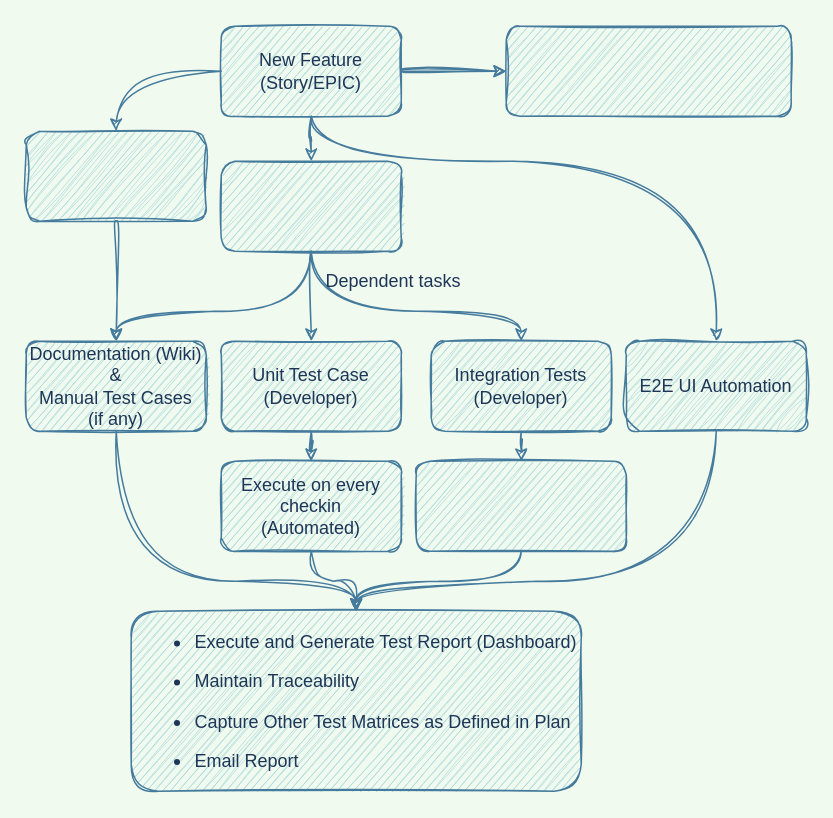
The diagram is 833 pixels wide and 818 high, and some of its shapes have lost their labels. Each missing label, with the centre of its shape:
"Create Test Suite & Add it to Test Framework (Developer)" belongs at point 520,505.
"Documentation (Wiki) with relevant Links" belongs at point 115,175.
"New API (task)" belongs at point 310,205.
"Test Plan -Test Technique & Deliverables,Schedule (Test Lead & Module Lead)" belongs at point 648,70.
